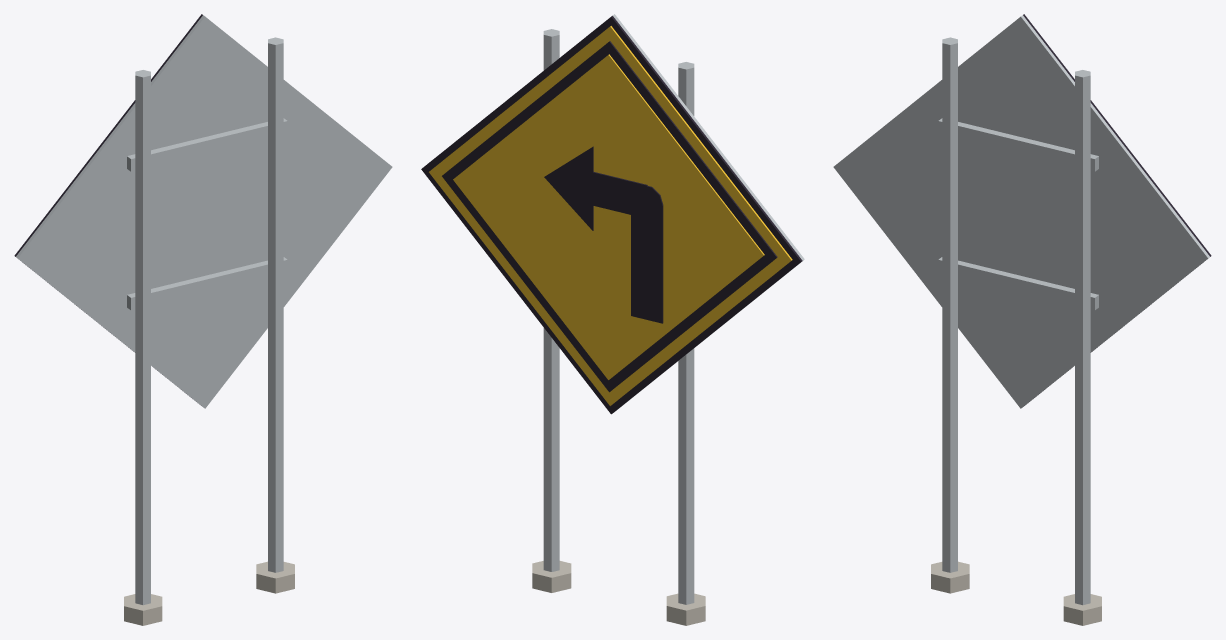
File: corner_warn_sharp_left.glb
3 renders of one model, left to right at view 1: azimuth 30°, elevation 25°; view 2: azimuth 150°, elevation 25°; view 3: azimuth 330°, elevation 25°, orthographic.
Visible parts, largest first — view 1: corner_warn_sharp_left; view 2: corner_warn_sharp_left; view 3: corner_warn_sharp_left.
Boxes of the visible parts, box(x1,y1,x2,y2) form: corner_warn_sharp_left: box(14, 14, 392, 625); corner_warn_sharp_left: box(421, 14, 804, 625); corner_warn_sharp_left: box(833, 14, 1211, 625).
Bounding box in the file's own units: 3.11 × 4.61 × 0.2996.
